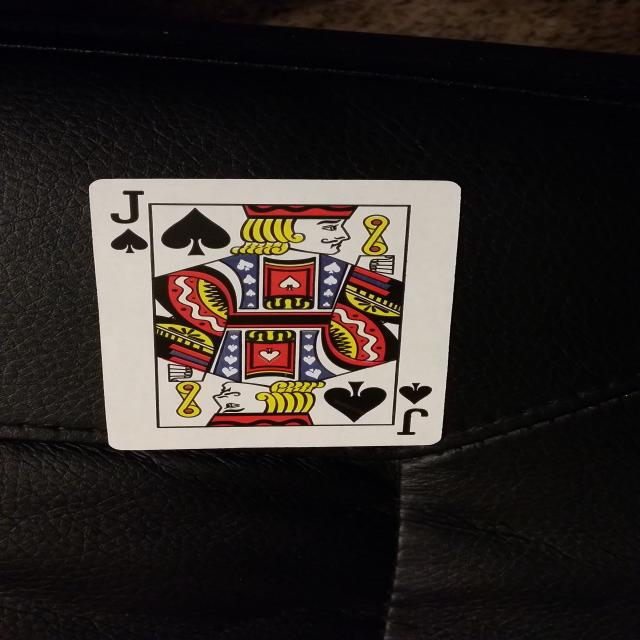Js: (101, 184, 163, 258), (390, 380, 438, 443)
